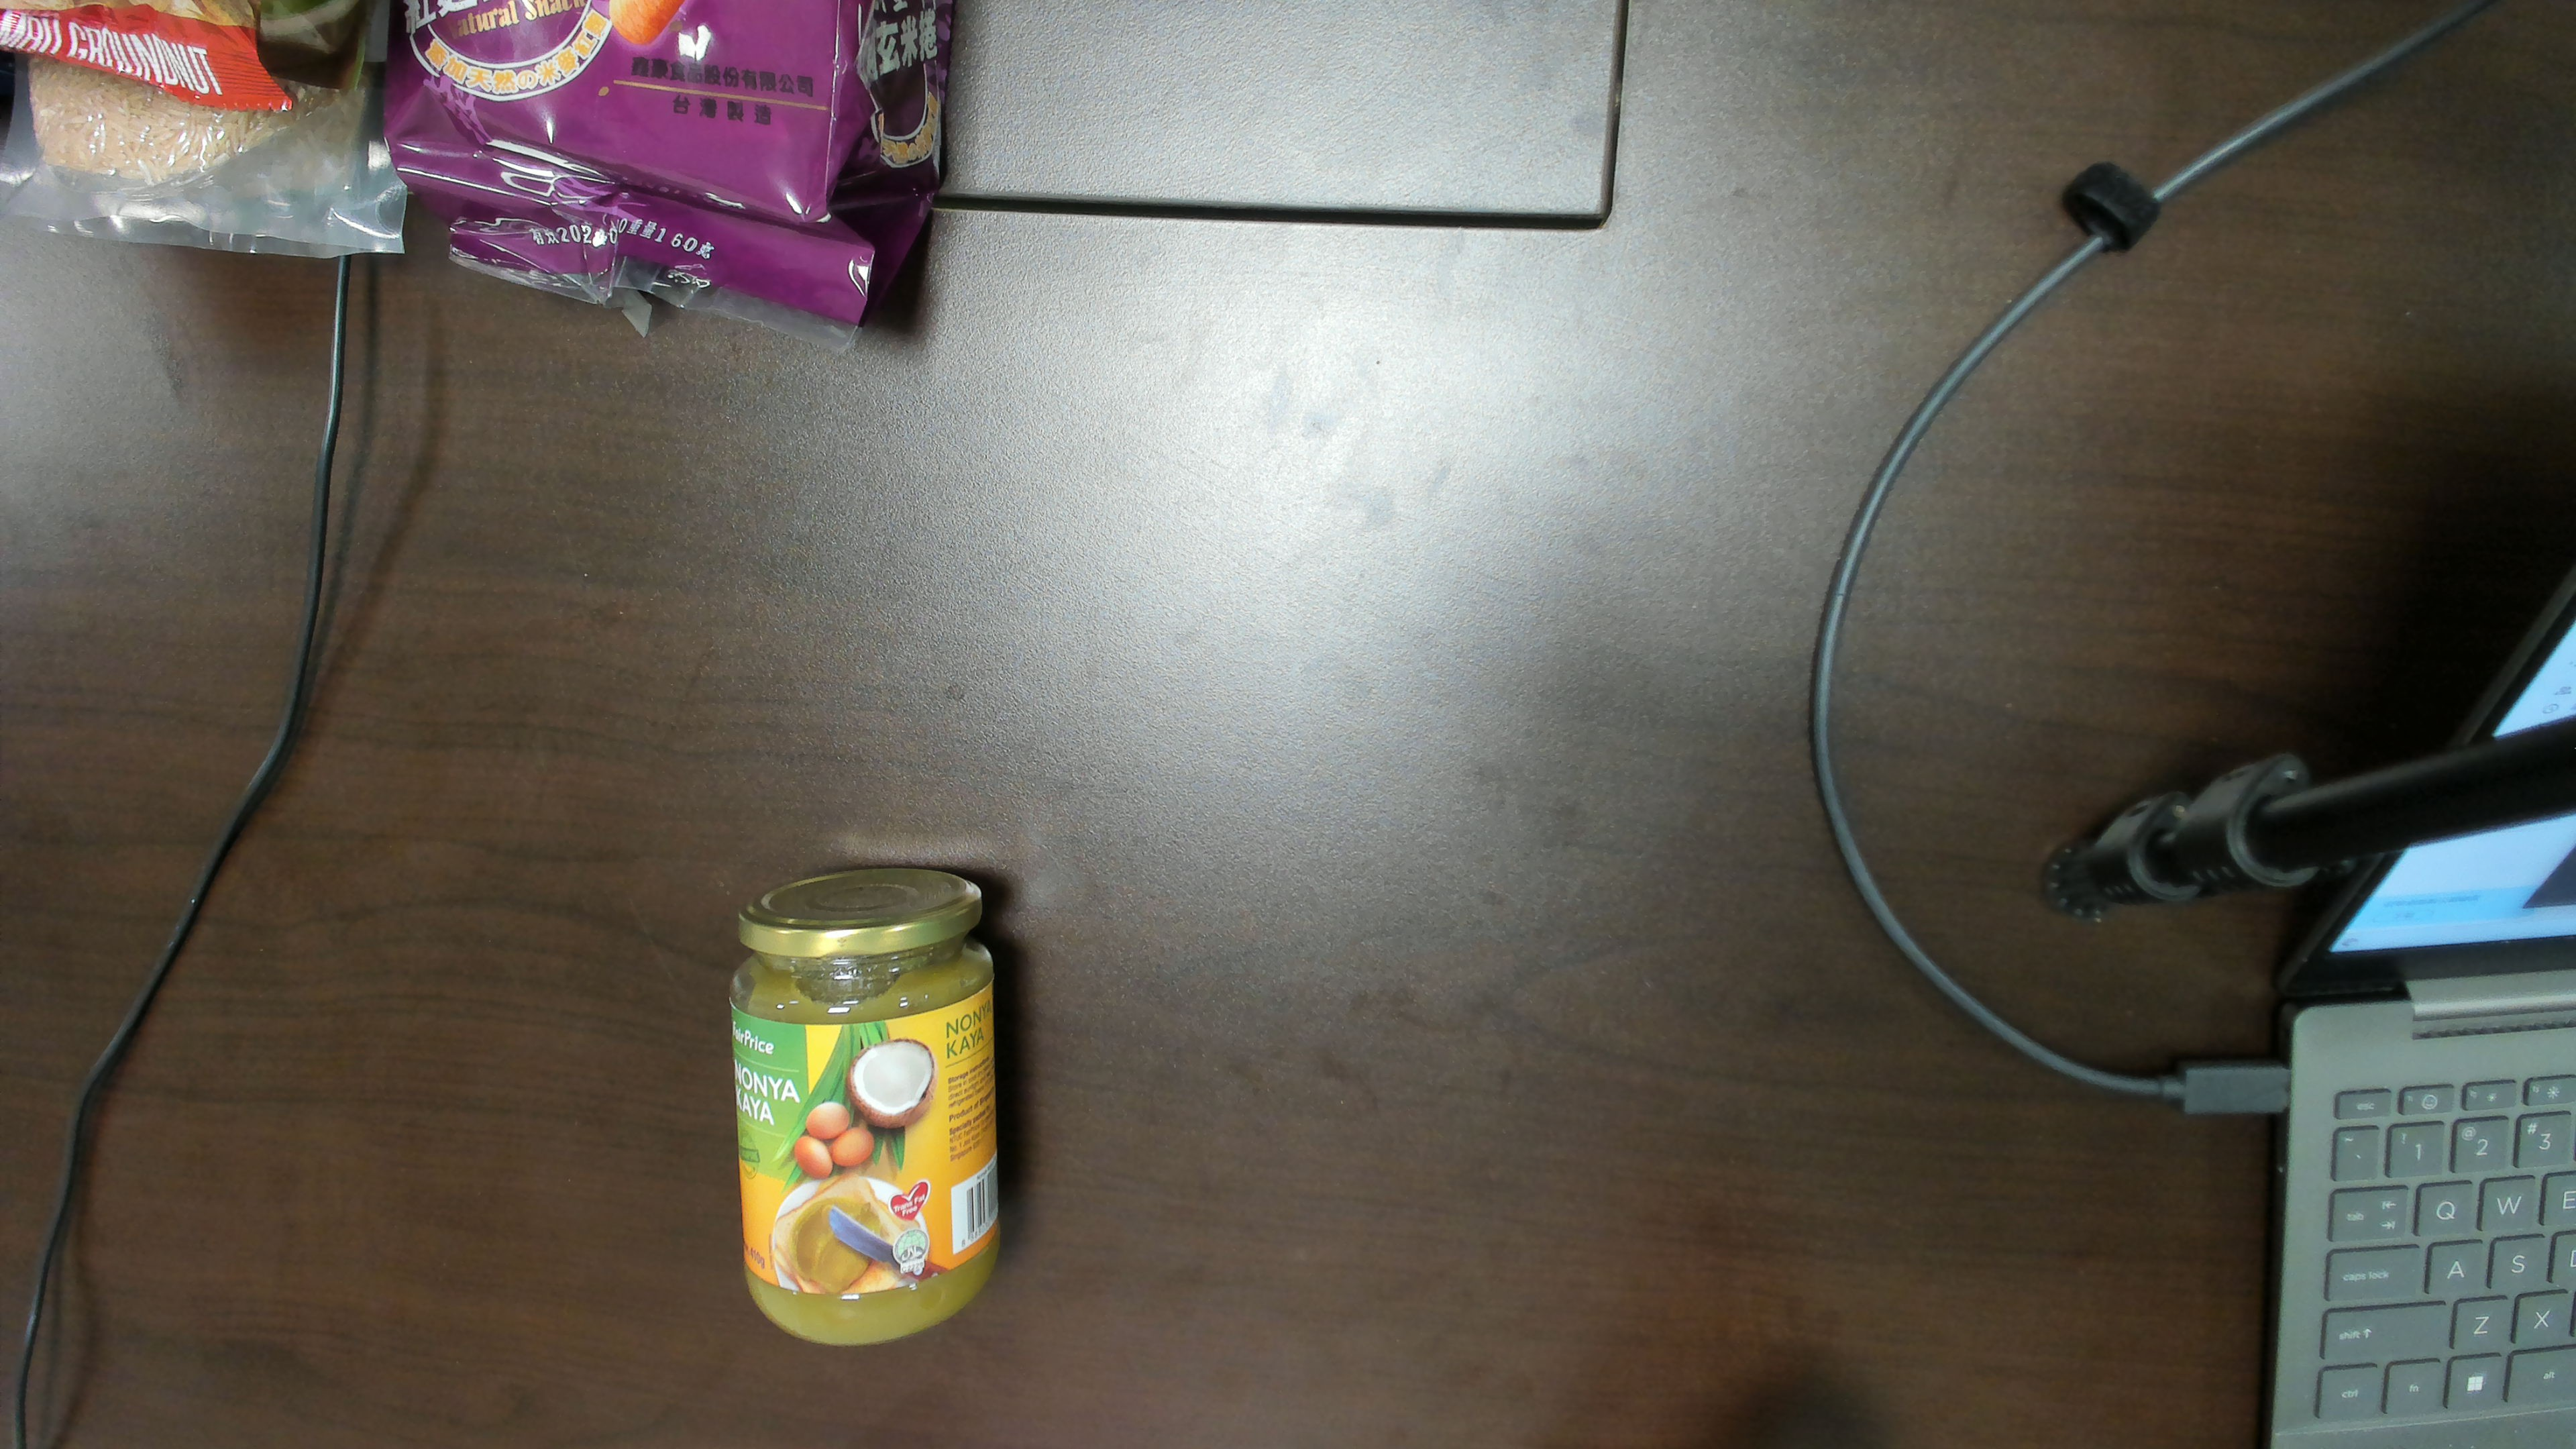Kaya_400-499g_Halal_NonHealthy: (748, 985, 985, 1279)
